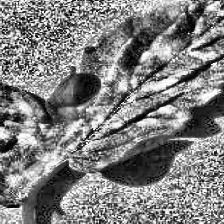leaf mold: (0, 0, 224, 205)
